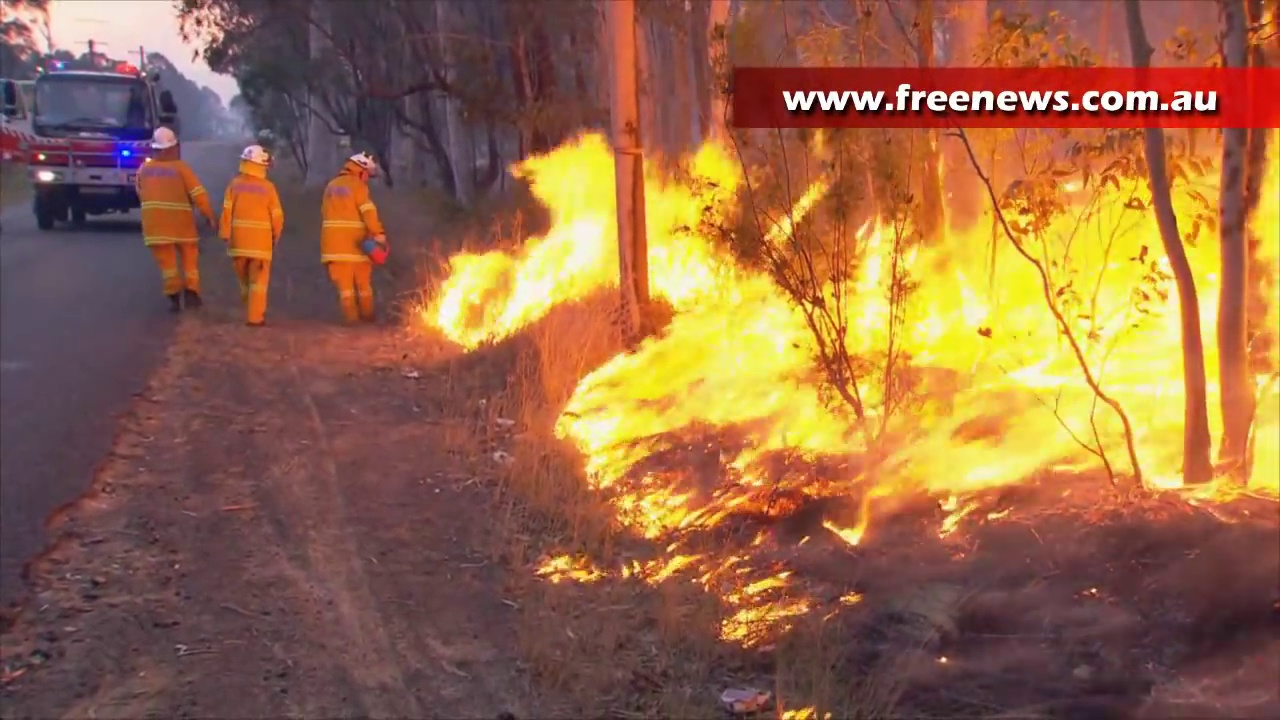fire: (556, 131, 1280, 510), (428, 137, 617, 348), (641, 542, 805, 653)
